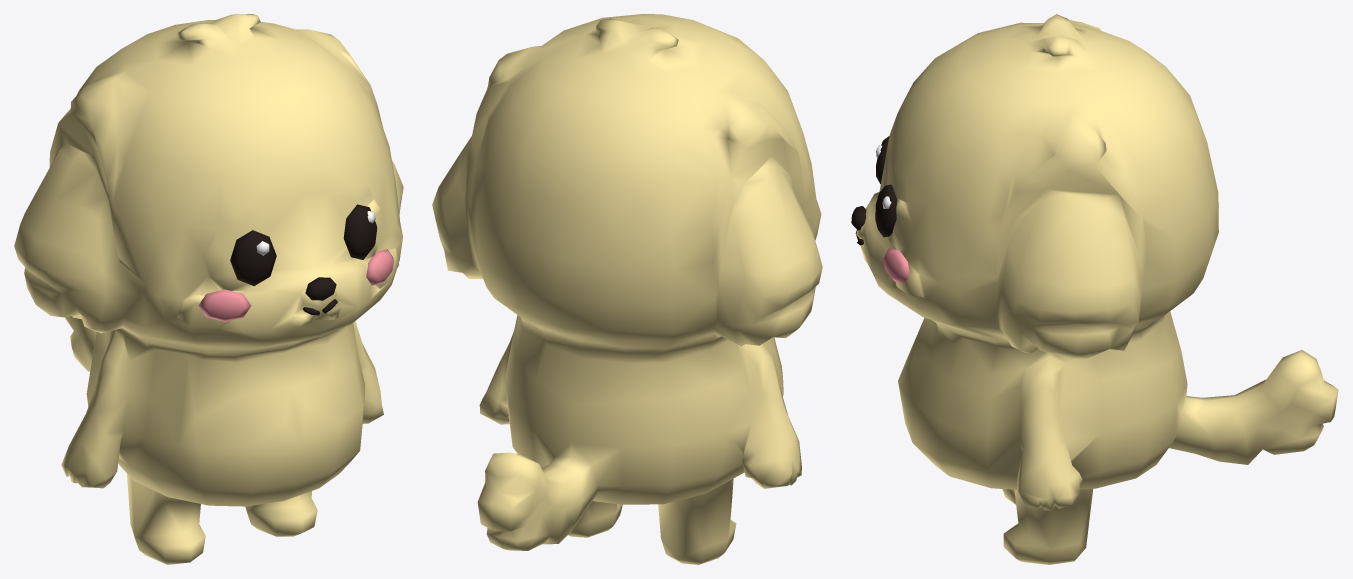
Rendered from pup.glb.
3 views of the same model, side by side, from view 1: azimuth 30°, elevation 25°; view 2: azimuth 150°, elevation 25°; view 3: azimuth 270°, elevation 25° (orthographic). The views are drawn at different scales.
Visible parts, largest first — view 1: pupkin, pupkin_face; view 2: pupkin; view 3: pupkin, pupkin_face.
Part boxes in pixels (x1=…): pupkin: x1=14, y1=14, x2=403, y2=564; pupkin_face: x1=198, y1=204, x2=393, y2=321; pupkin: x1=432, y1=14, x2=822, y2=564; pupkin: x1=856, y1=14, x2=1338, y2=564; pupkin_face: x1=851, y1=136, x2=909, y2=283.
Bounding box in the file's own units: 0.595 × 0.8 × 0.7054.
